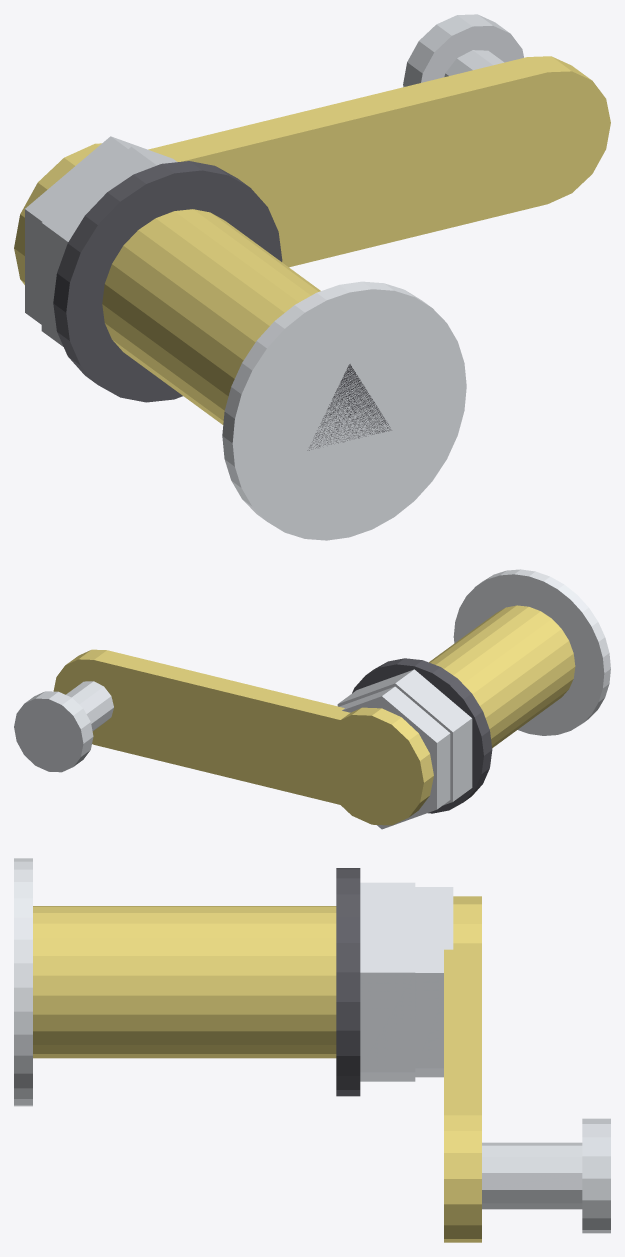
File: triangle_key_assembly.glb
3 views of the same model, one above another, from view 1: azimuth 30°, elevation 25°; view 2: azimuth 150°, elevation 25°; view 3: azimuth 270°, elevation 25° (orthographic). The views are drawn at different scales.
Visible parts, largest first — view 1: Key_Cylinder_Bezel, Cam_Arm, Key_Cylinder_Body, Key_Rubber_Washer, Cam_TipRound, Key_Main_Nut, Cam_PinHead, Key_Lock_Nut, Key_Tri_Pocket, Cam_Hub, Cam_DrivePin; view 2: Cam_Arm, Key_Cylinder_Body, Key_Cylinder_Bezel, Cam_Hub, Cam_PinHead, Key_Main_Nut, Key_Rubber_Washer, Key_Lock_Nut, Cam_TipRound, Cam_DrivePin; view 3: Key_Cylinder_Body, Key_Main_Nut, Cam_DrivePin, Cam_Arm, Key_Lock_Nut, Key_Rubber_Washer, Cam_TipRound, Key_Cylinder_Bezel, Cam_PinHead, Cam_Hub.
Boxes of the visible parts, bbox=[...] form: Key_Cylinder_Bezel: bbox=[222, 281, 466, 540]; Cam_Arm: bbox=[148, 57, 547, 267]; Key_Cylinder_Body: bbox=[102, 209, 320, 424]; Key_Rubber_Washer: bbox=[53, 161, 282, 402]; Cam_TipRound: bbox=[485, 56, 610, 204]; Key_Main_Nut: bbox=[41, 147, 174, 346]; Cam_PinHead: bbox=[403, 14, 523, 87]; Key_Lock_Nut: bbox=[25, 136, 177, 324]; Key_Tri_Pocket: bbox=[307, 364, 391, 450]; Cam_Hub: bbox=[14, 143, 101, 284]; Cam_DrivePin: bbox=[444, 50, 504, 76]; Cam_Arm: bbox=[94, 650, 371, 812]; Key_Cylinder_Body: bbox=[429, 605, 575, 748]; Key_Cylinder_Bezel: bbox=[453, 569, 610, 735]; Cam_Hub: bbox=[320, 707, 433, 825]; Cam_PinHead: bbox=[14, 691, 93, 772]; Key_Main_Nut: bbox=[337, 669, 472, 805]; Key_Rubber_Washer: bbox=[352, 658, 492, 813]; Key_Lock_Nut: bbox=[339, 686, 450, 829]; Cam_TipRound: bbox=[53, 649, 134, 745]; Cam_DrivePin: bbox=[66, 681, 113, 730]; Key_Cylinder_Body: bbox=[33, 906, 336, 1058]; Key_Main_Nut: bbox=[360, 882, 415, 1081]; Cam_DrivePin: bbox=[482, 1142, 582, 1209]; Cam_Arm: bbox=[444, 943, 481, 1115]; Key_Lock_Nut: bbox=[415, 887, 453, 1077]; Key_Rubber_Washer: bbox=[336, 868, 360, 1096]; Cam_TipRound: bbox=[444, 1115, 481, 1242]; Key_Cylinder_Bezel: bbox=[14, 858, 32, 1106]; Cam_PinHead: bbox=[582, 1118, 610, 1233]; Cam_Hub: bbox=[453, 896, 481, 943].
Bounding box in the file's own units: 0.068 × 0.026 × 0.0625.
